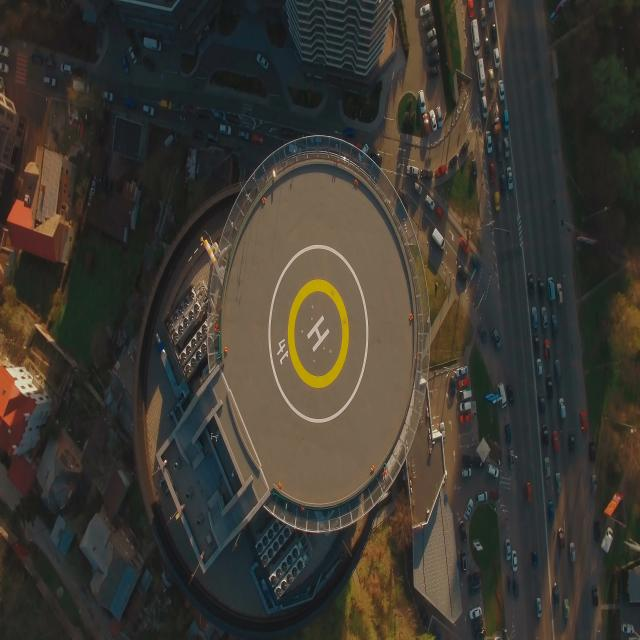helipad: (286, 277, 350, 390)
